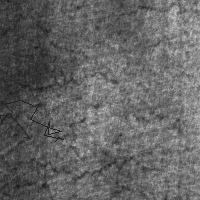crazing: (1, 134, 174, 181), (1, 82, 116, 129), (0, 100, 63, 141)
